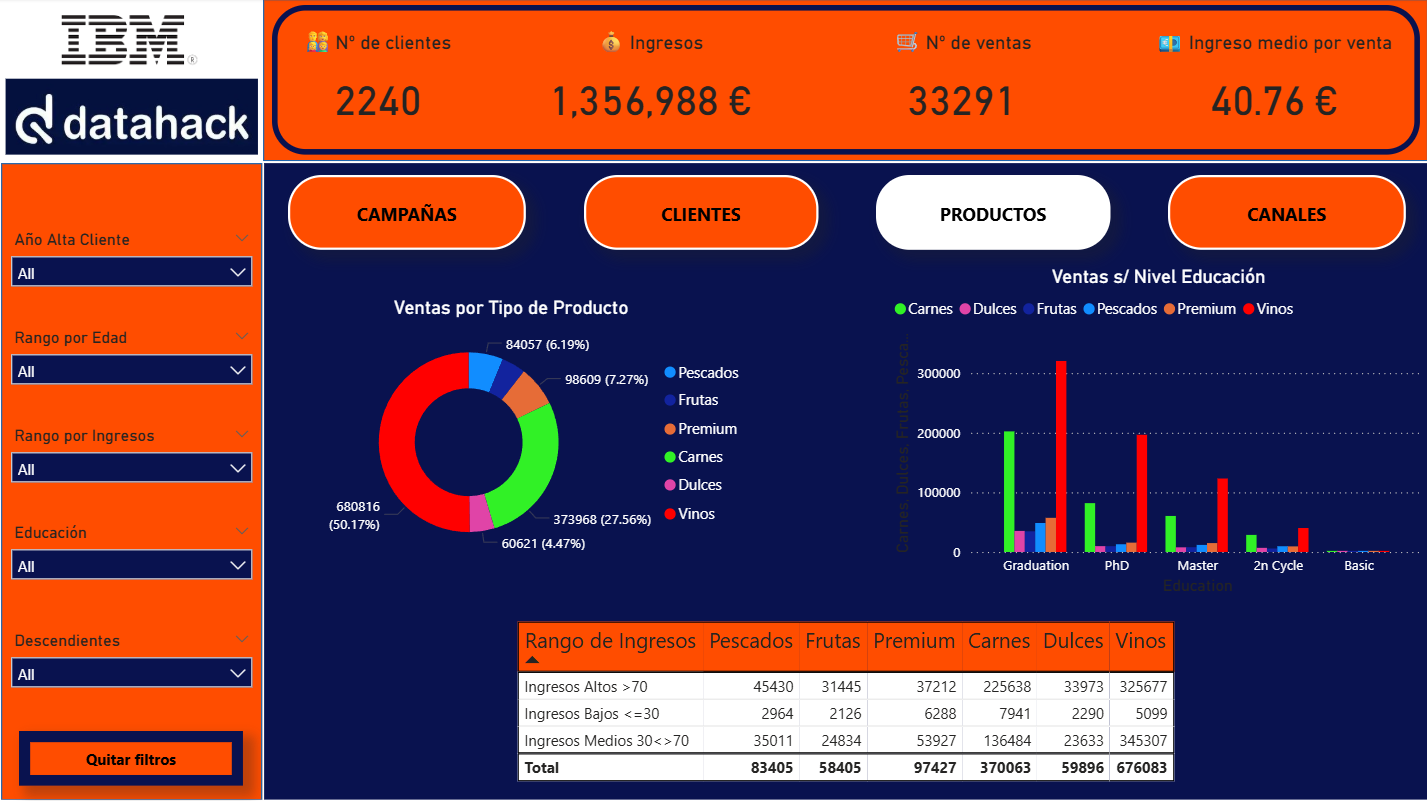

Layout of this report page (visuals, bound fields, positions):
{"tool":"powerbi","page":{"name":"Productos","canvas":[1280,720],"ordinal":2},"visuals":[{"type":"shape","box":[234.8,0,1045.2,147.1],"z":0},{"type":"shape","box":[243.9,6,1028,134],"z":1000},{"type":"shape","box":[0,147.1,235.8,572.5],"z":2000},{"type":"slicer","fields":{"Values":["Dim_Customers.Rango_Year_Birth"]},"box":[0,291.3,235.8,87.7],"z":3000},{"type":"slicer","fields":{"Values":["Dim_Calendar_DAX.Date.Variación.Jerarquía de fechas.Año"]},"box":[0,203.6,235.8,87.7],"z":4000},{"type":"slicer","fields":{"Values":["Dim_Customers.Rango_Income"]},"box":[0,379,235.8,86.7],"z":5000},{"type":"slicer","fields":{"Values":["Dim_Customers.Education"]},"box":[0,465.6,235.8,87.7],"z":6000},{"type":"actionButton","box":[17.1,656.1,200.6,49.4],"z":7000},{"type":"slicer","fields":{"Values":["Dim_Customers.Descendientes"]},"box":[0,562.4,235.8,80.6],"z":8000},{"type":"image","box":[38.3,0,151.2,73.6],"z":9000},{"type":"image","box":[0,66.5,235.8,80.6],"z":10000},{"type":"shape","box":[235.8,147.1,1044.2,572.5],"z":11000},{"type":"actionButton","box":[258,158.2,212.7,66.5],"z":12000},{"type":"actionButton","box":[523.1,158.2,209.6,66.5],"z":13000},{"type":"actionButton","box":[784.1,158.2,209.6,66.5],"z":14000},{"type":"actionButton","box":[1046.2,158.2,212.7,66.5],"z":15000},{"type":"card","title":"👨👩👧👦 Nº de clientes","fields":{"Values":["DAX_Measures.Total Clientes"]},"box":[234.8,26.2,207.6,105.8],"z":16000},{"type":"card","title":"💰 Ingresos","fields":{"Values":["DAX_Measures.Total Ventas"]},"box":[442.5,26.2,279.2,105.8],"z":17000},{"type":"card","title":"🛒 Nº de ventas","fields":{"Values":["DAX_Measures.Nº total ventas"]},"box":[721.6,26.2,279.2,105.8],"z":18000},{"type":"card","title":"💶 Ingreso medio por venta","fields":{"Values":["DAX_Measures.Ingreso medio por compra"]},"box":[1000.8,26.2,279.2,105.8],"z":19000},{"type":"donutChart","title":"Ventas por Tipo de  Producto","fields":{"Y":["DAX_Measures.Total Fish","DAX_Measures.Total Fruit","DAX_Measures.Total Gold","DAX_Measures.Total Meat","DAX_Measures.Total Sweet","DAX_Measures.Total Wine"]},"box":[239.9,267.1,435.4,242.9],"z":20000},{"type":"tableEx","fields":{"Values":["Dim_Customers.Rango_Income","DAX_Measures.Total Fish","DAX_Measures.Total Fruit","DAX_Measures.Total Gold","DAX_Measures.Total Meat","DAX_Measures.Total Sweet","DAX_Measures.Total Wine"]},"box":[457.6,553.3,600.7,164.3],"z":21000},{"type":"clusteredColumnChart","title":"Ventas s/ Nivel Educación","fields":{"Category":["Dim_Customers.Education"],"Y":["DAX_Measures.Carnes","DAX_Measures.Dulces","DAX_Measures.Frutas","DAX_Measures.Pescados","DAX_Measures.Premium","DAX_Measures.Vinos"]},"box":[795.2,238.9,484.8,300.3],"z":22000}]}

Visuals, with their boxes in screenshot pixels (x1, y1, x2, y2), scaled from the page's 1280x720 canvas onto the 1427x801 screenshot:
shape: crop(262, 0, 1426, 164)
shape: crop(272, 7, 1418, 156)
shape: crop(0, 164, 263, 800)
slicer - Dim_Customers.Rango_Year_Birth: crop(0, 324, 263, 422)
slicer - Dim_Calendar_DAX.Date.Variación.Jerarquía de fechas.Año: crop(0, 227, 263, 324)
slicer - Dim_Customers.Rango_Income: crop(0, 422, 263, 518)
slicer - Dim_Customers.Education: crop(0, 518, 263, 616)
actionButton: crop(19, 730, 243, 785)
slicer - Dim_Customers.Descendientes: crop(0, 626, 263, 715)
image: crop(43, 0, 211, 82)
image: crop(0, 74, 263, 164)
shape: crop(263, 164, 1426, 800)
actionButton: crop(288, 176, 525, 250)
actionButton: crop(583, 176, 817, 250)
actionButton: crop(874, 176, 1108, 250)
actionButton: crop(1166, 176, 1403, 250)
"👨👩👧👦 Nº de clientes" card: crop(262, 29, 493, 147)
"💰 Ingresos" card: crop(493, 29, 805, 147)
"🛒 Nº de ventas" card: crop(804, 29, 1116, 147)
"💶 Ingreso medio por venta" card: crop(1116, 29, 1426, 147)
"Ventas por Tipo de  Producto" donutChart: crop(267, 297, 753, 567)
tableEx - Dim_Customers.Rango_Income x DAX_Measures.Total Fish: crop(510, 616, 1180, 798)
"Ventas s/ Nivel Educación" clusteredColumnChart: crop(887, 266, 1426, 600)
